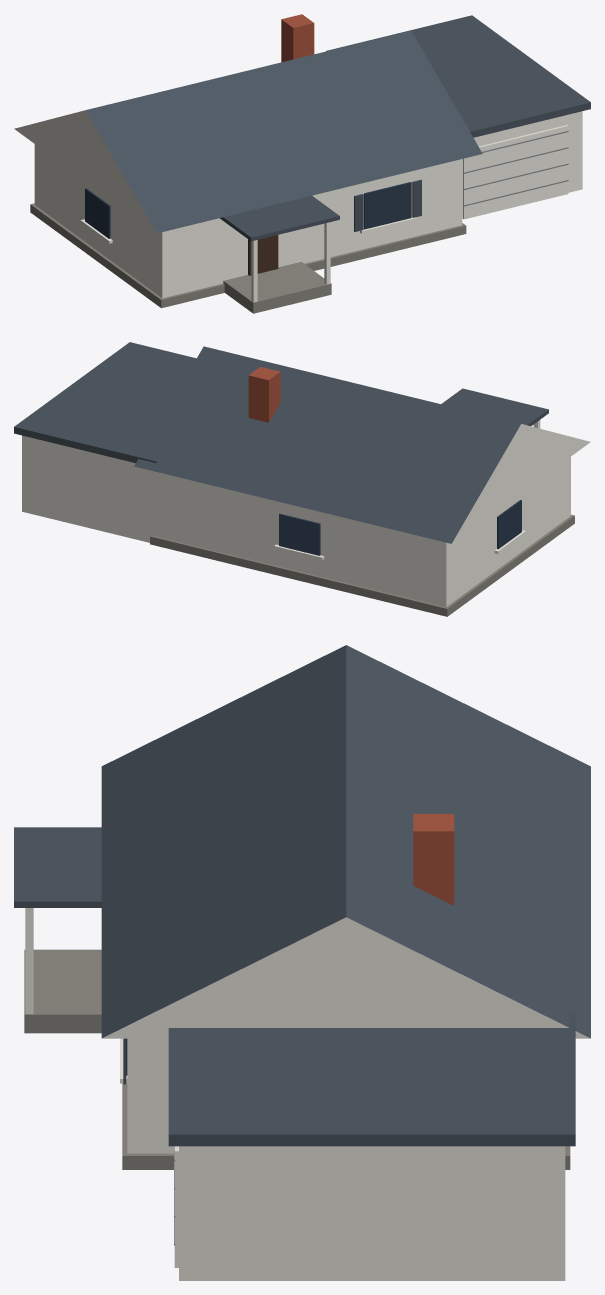
Rendered from house_e.glb.
3 renders of one model, top to bottom at view 1: azimuth 30°, elevation 25°; view 2: azimuth 150°, elevation 25°; view 3: azimuth 270°, elevation 25°, orthographic. The views are drawn at different scales.
Parts seen in each view (by area): view 1: house_e; view 2: house_e; view 3: house_e.
Part boxes in pixels (x1,y1,x2,y2): house_e: (14,14,590,313); house_e: (14,342,590,616); house_e: (14,645,590,1280).
Size of what is drawn, in the model's own units: 17.4 by 6.05 by 11.2.
